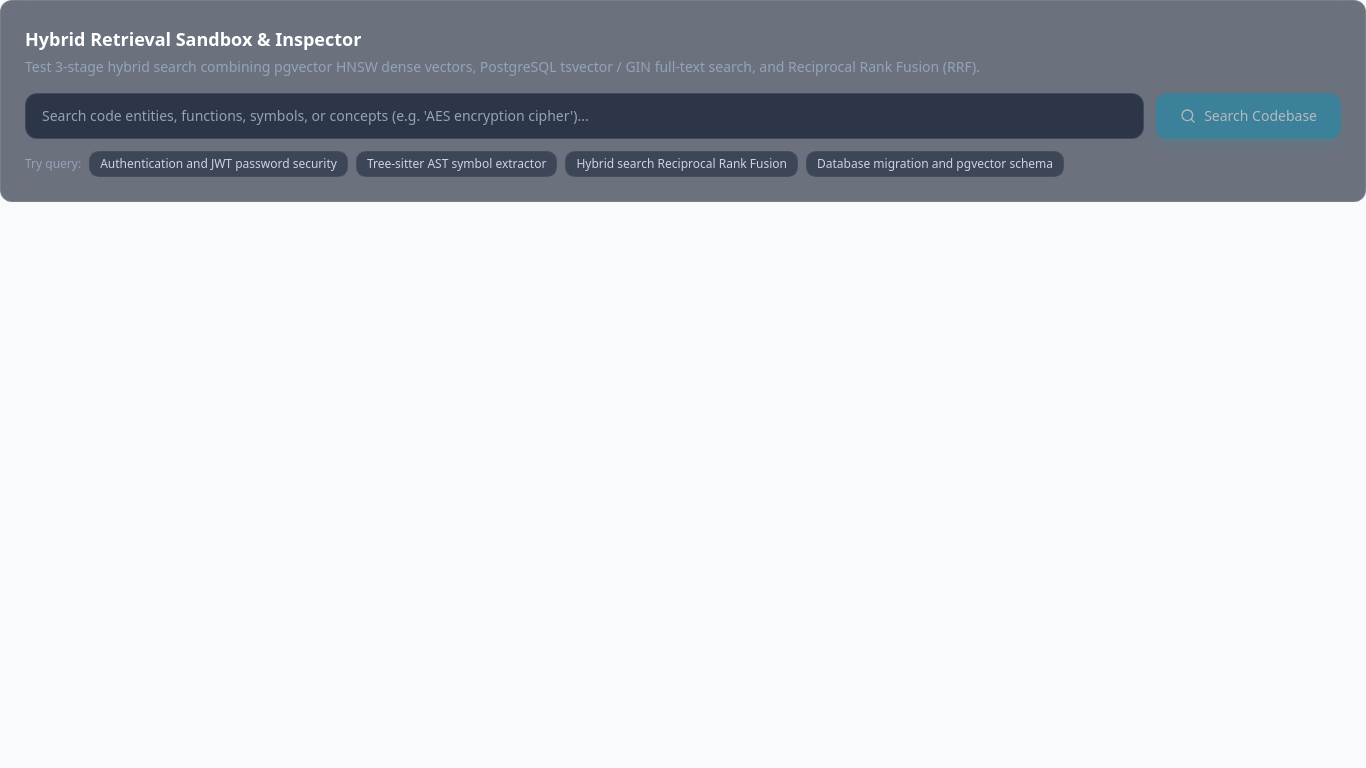
Test: RetrievalSandbox Collapsible Evidence Chunks › handles Expand All and Collapse All buttons correctly
Replace the text in the field with placeholder "Search code entities" with "authentication tokens" at (585,116), box [25,93,1144,139]
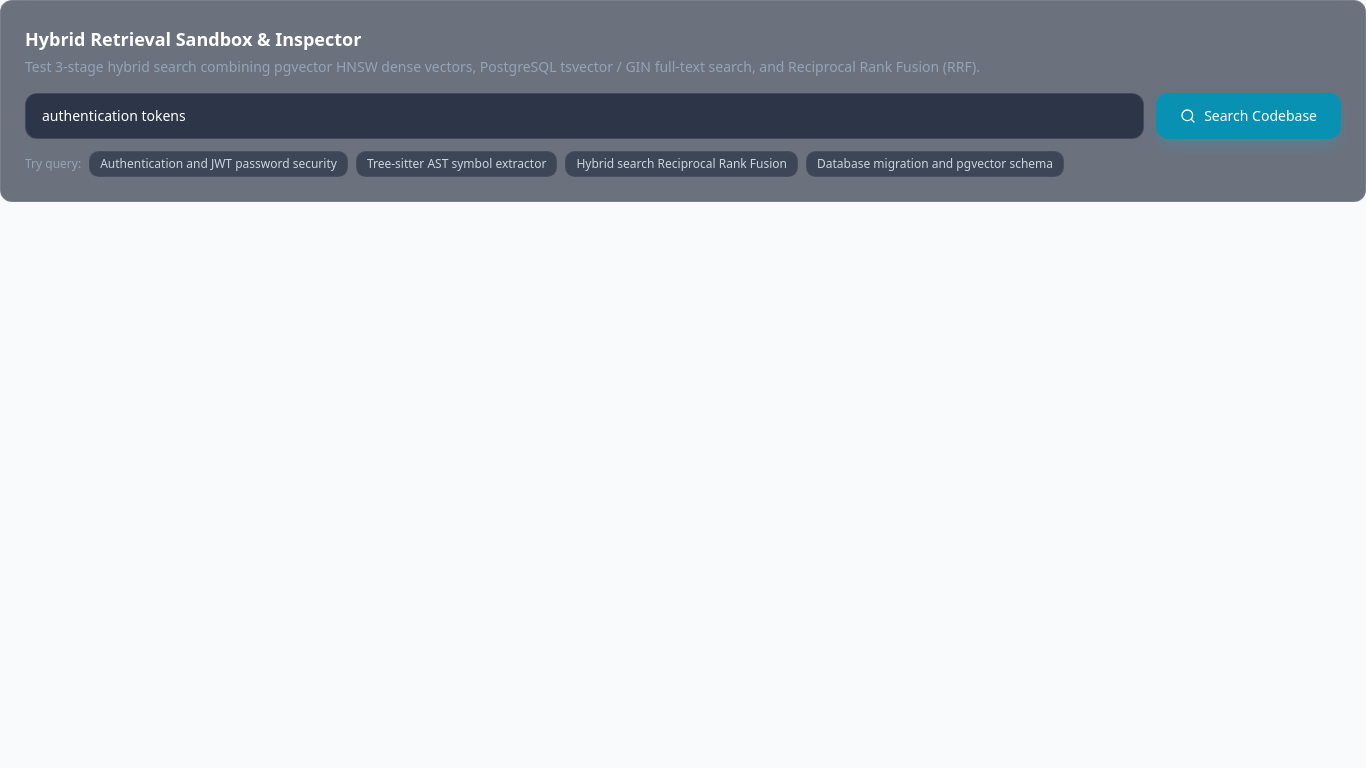
Click the button "Search Codebase" at (1249,116), box [1156,93,1341,139]
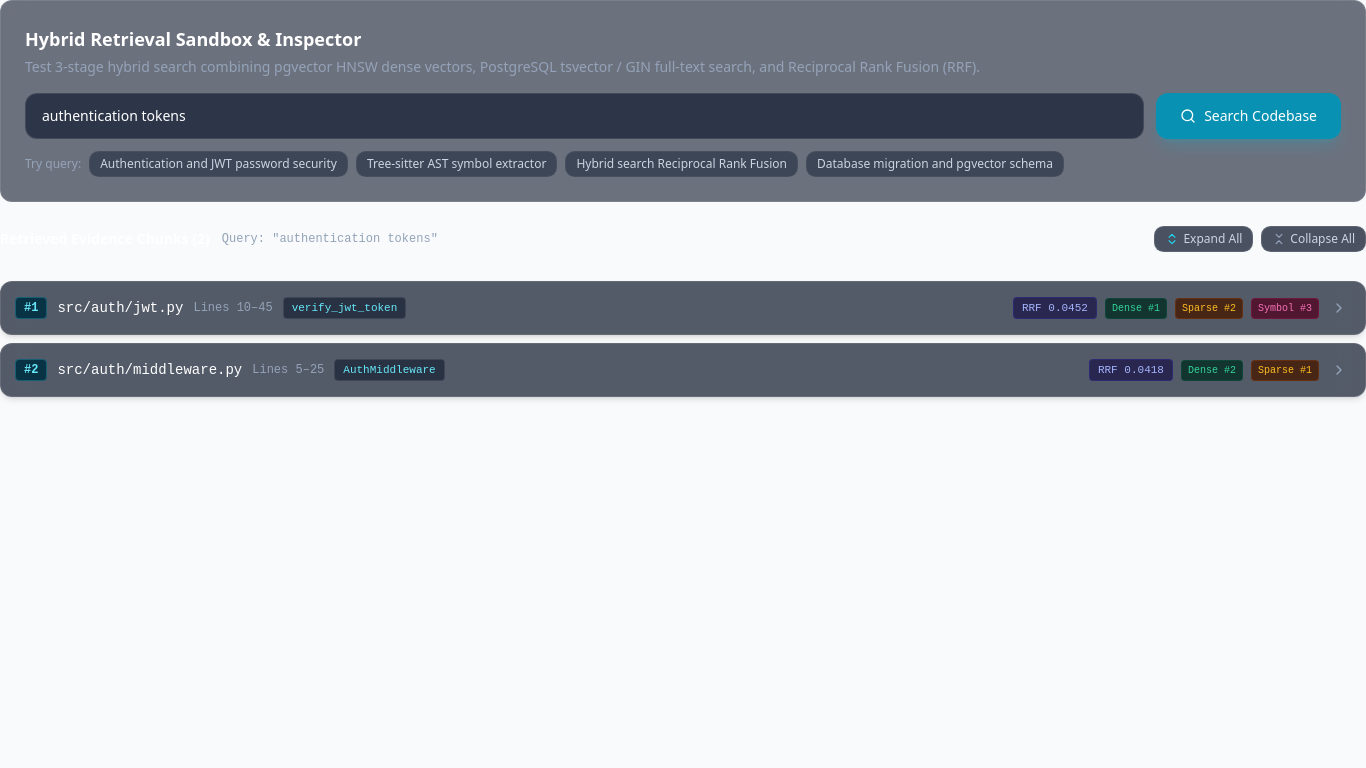
expect the text "Expand All" is shown: met, box [1183,231,1242,247]
// Click Expand All
Click the button "Expand All" at (1204,239), box [1154,226,1253,252]
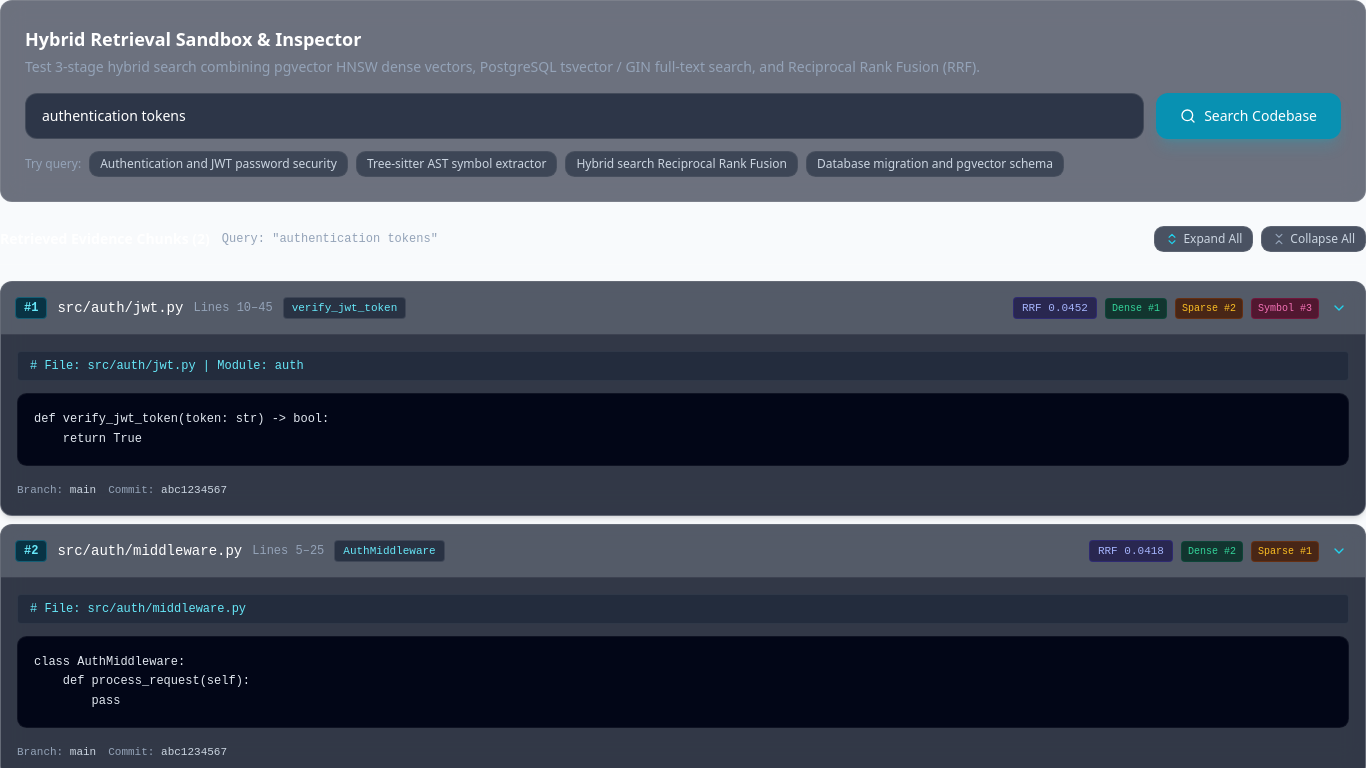
expect the text "def verify_jwt_token(token: str) -> bool: return True" is shown: met, box [34,412,329,446]
expect the text "class AuthMiddleware: def process_request(self): pass" is shown: met, box [34,654,250,708]
// Click Collapse All
Click the button "Collapse All" at (1314,239), box [1261,226,1365,252]
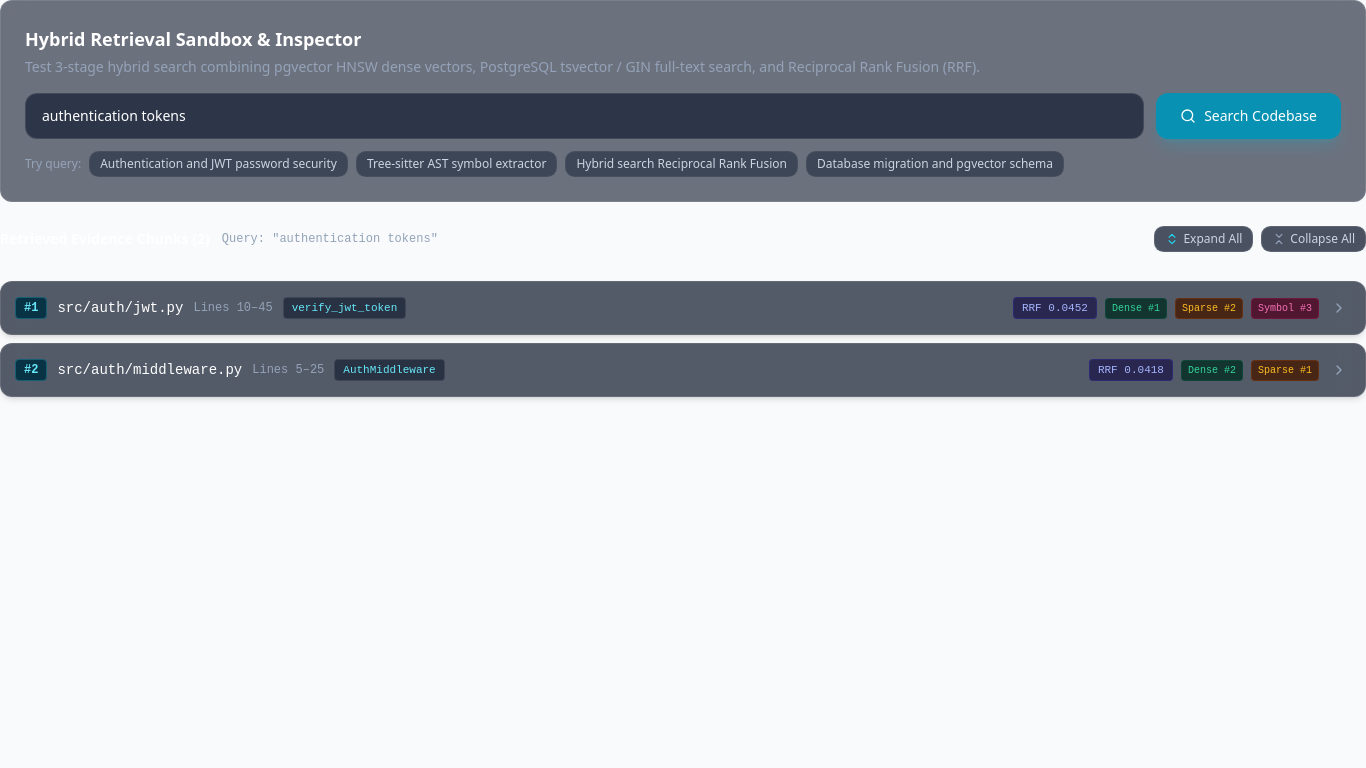
expect the text "def verify_jwt_token" is gone: met
expect the text "class AuthMiddleware" is gone: met
